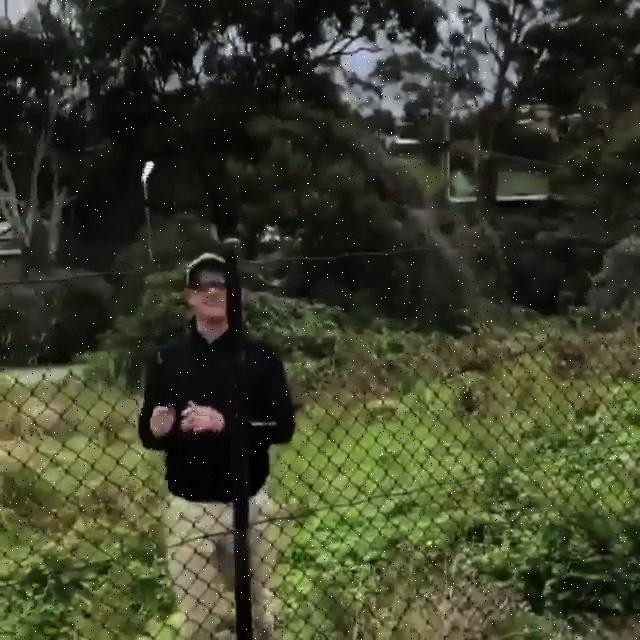ClubHead: (142, 161, 156, 186)
